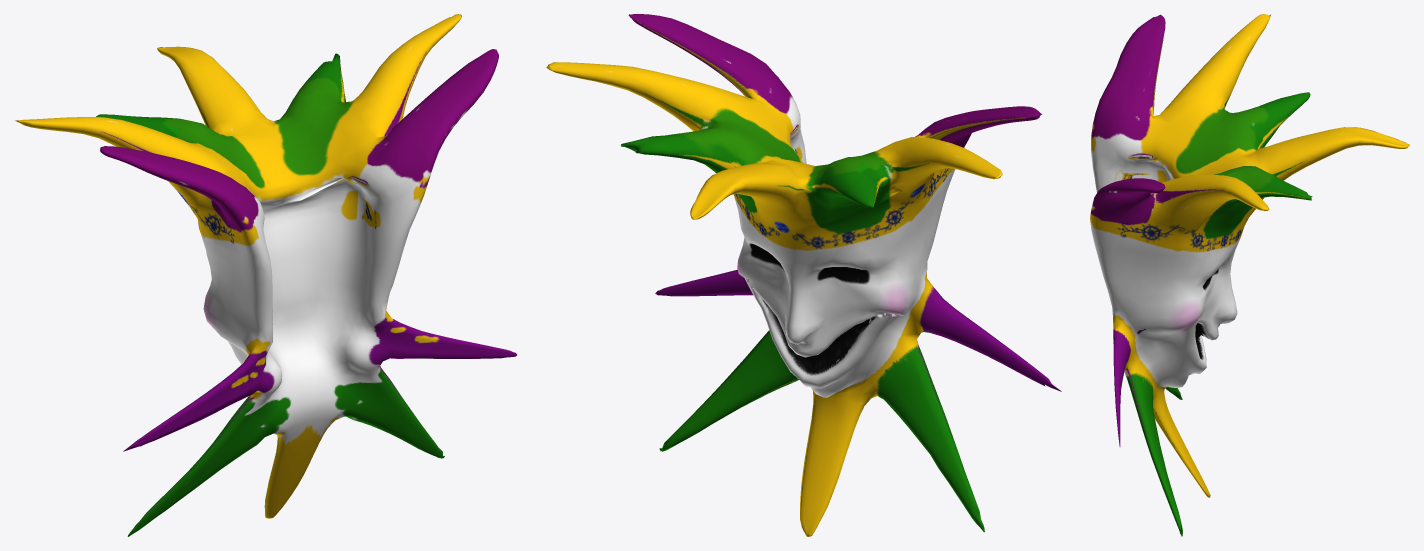
File: Mask 3 Model.glb
The picture shows the model from 3 angles, left to right: view 1: azimuth 30°, elevation 25°; view 2: azimuth 150°, elevation 25°; view 3: azimuth 270°, elevation 25°; orthographic projection. The views are drawn at different scales.
Parts seen in each view (by area): view 1: Group40933; view 2: Group40933; view 3: Group40933.
Part boxes in pixels (x1,y1,x2,y2): Group40933: (15, 14, 517, 536); Group40933: (546, 14, 1061, 536); Group40933: (1090, 14, 1409, 536).
Size of the model in its own units: 1.5 by 1.42 by 1.04.
1 material, 1 textured.
